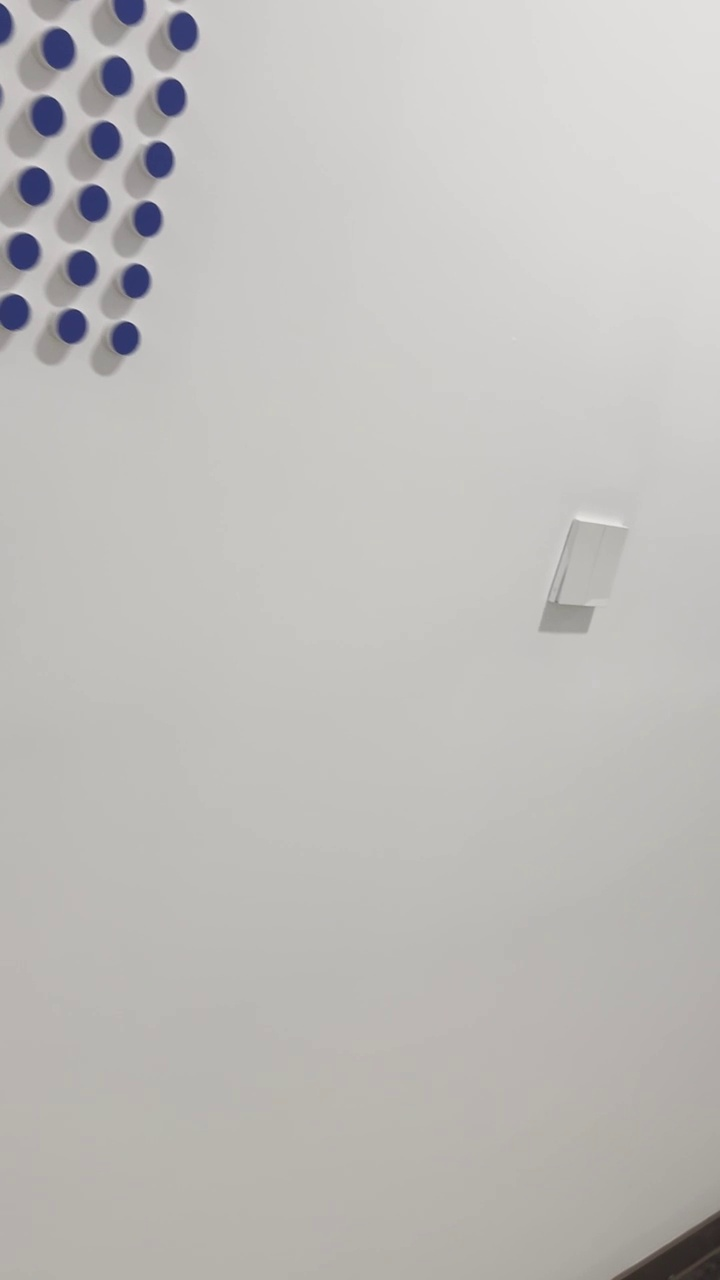button: (541, 514, 627, 609)
